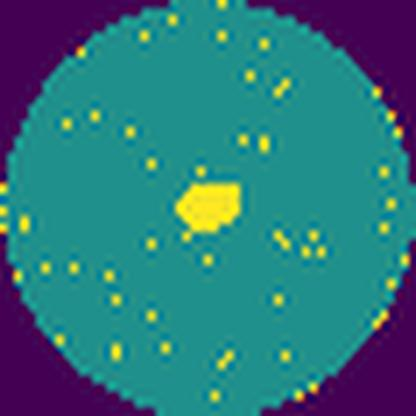Center: (175, 181, 241, 235)
